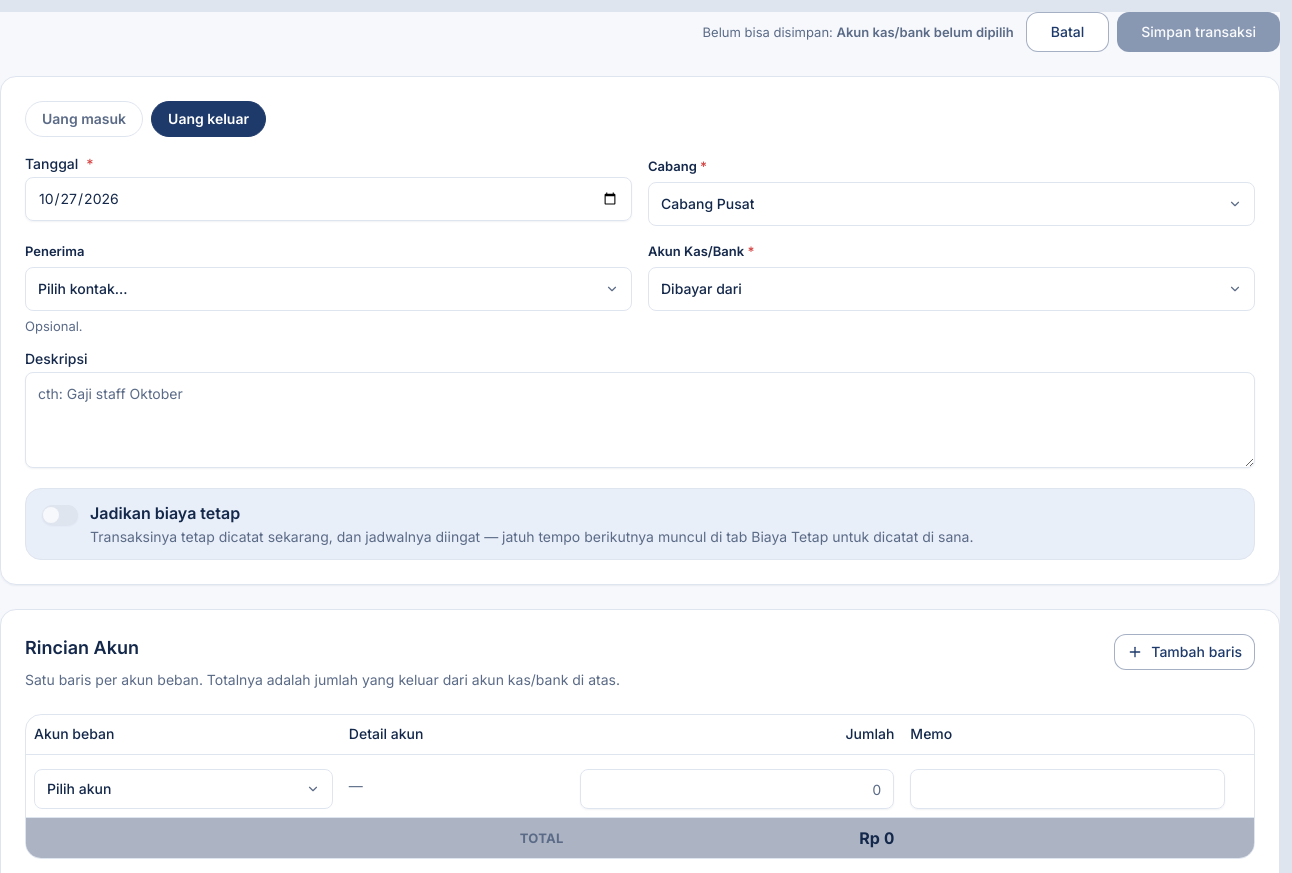
Test case: CashTransactionCreateForm › as biaya tetap › hides the schedule's fields until the switch is on
Expected: the button "Simpan transaksi" is shown, [1117,12,1280,52]
Expected: the field labelled "Nama biaya tetap" is not shown
Click the switch named "Jadikan biaya tetap" at (60, 514), box [42,504,78,524]
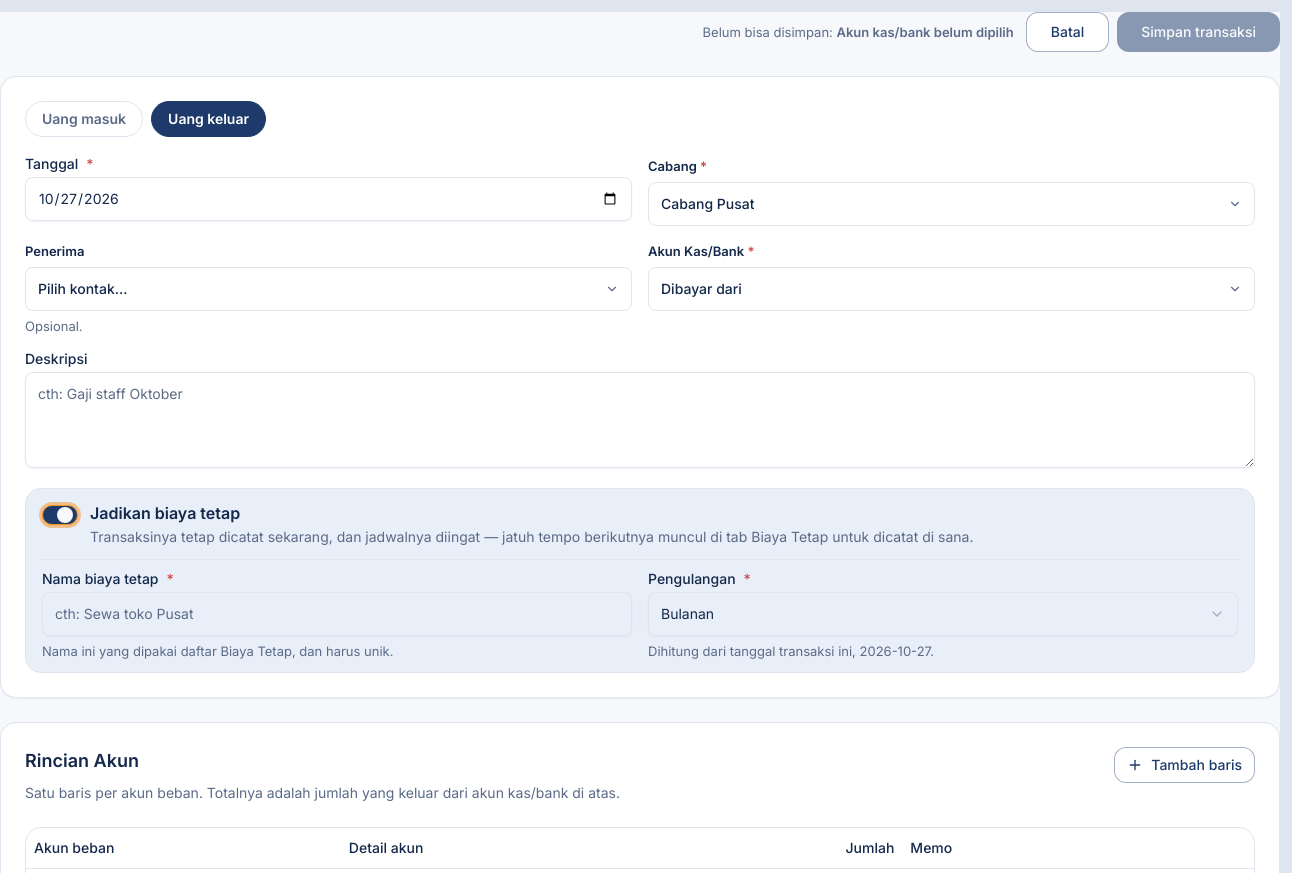
Expected: the field labelled "Nama biaya tetap *" is shown, [42,592,632,636]
Expected: the dropdown named "Pengulangan" is shown, [648,592,1238,636]
